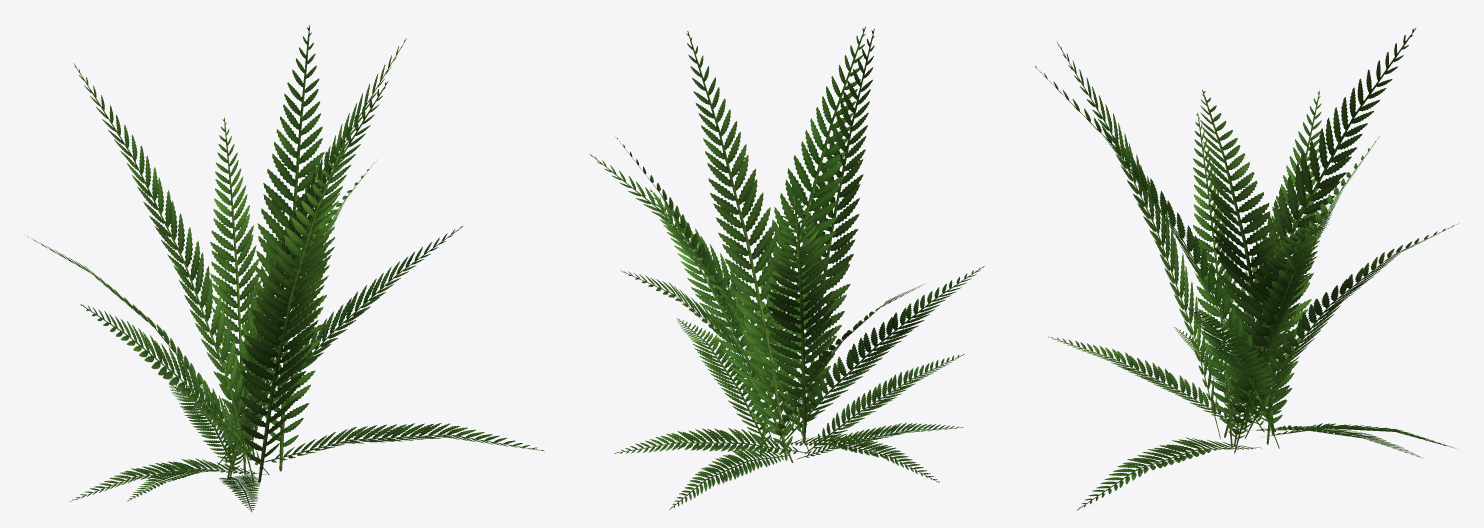
The model's file is mm8_deco_plant05.glb.
3 views of the same model, side by side, from view 1: azimuth 30°, elevation 25°; view 2: azimuth 150°, elevation 25°; view 3: azimuth 270°, elevation 25° (orthographic). The views are drawn at different scales.
Visible parts, largest first — view 1: Plant; view 2: Plant; view 3: Plant.
Boxes of the visible parts, x1,y1,x2,y2 form: Plant: [27, 25, 544, 511]; Plant: [589, 26, 984, 509]; Plant: [1035, 28, 1458, 510].
Size of the model in its own units: 1.61 by 1.57 by 1.49.
Materials: 1 (1 with a texture image).
